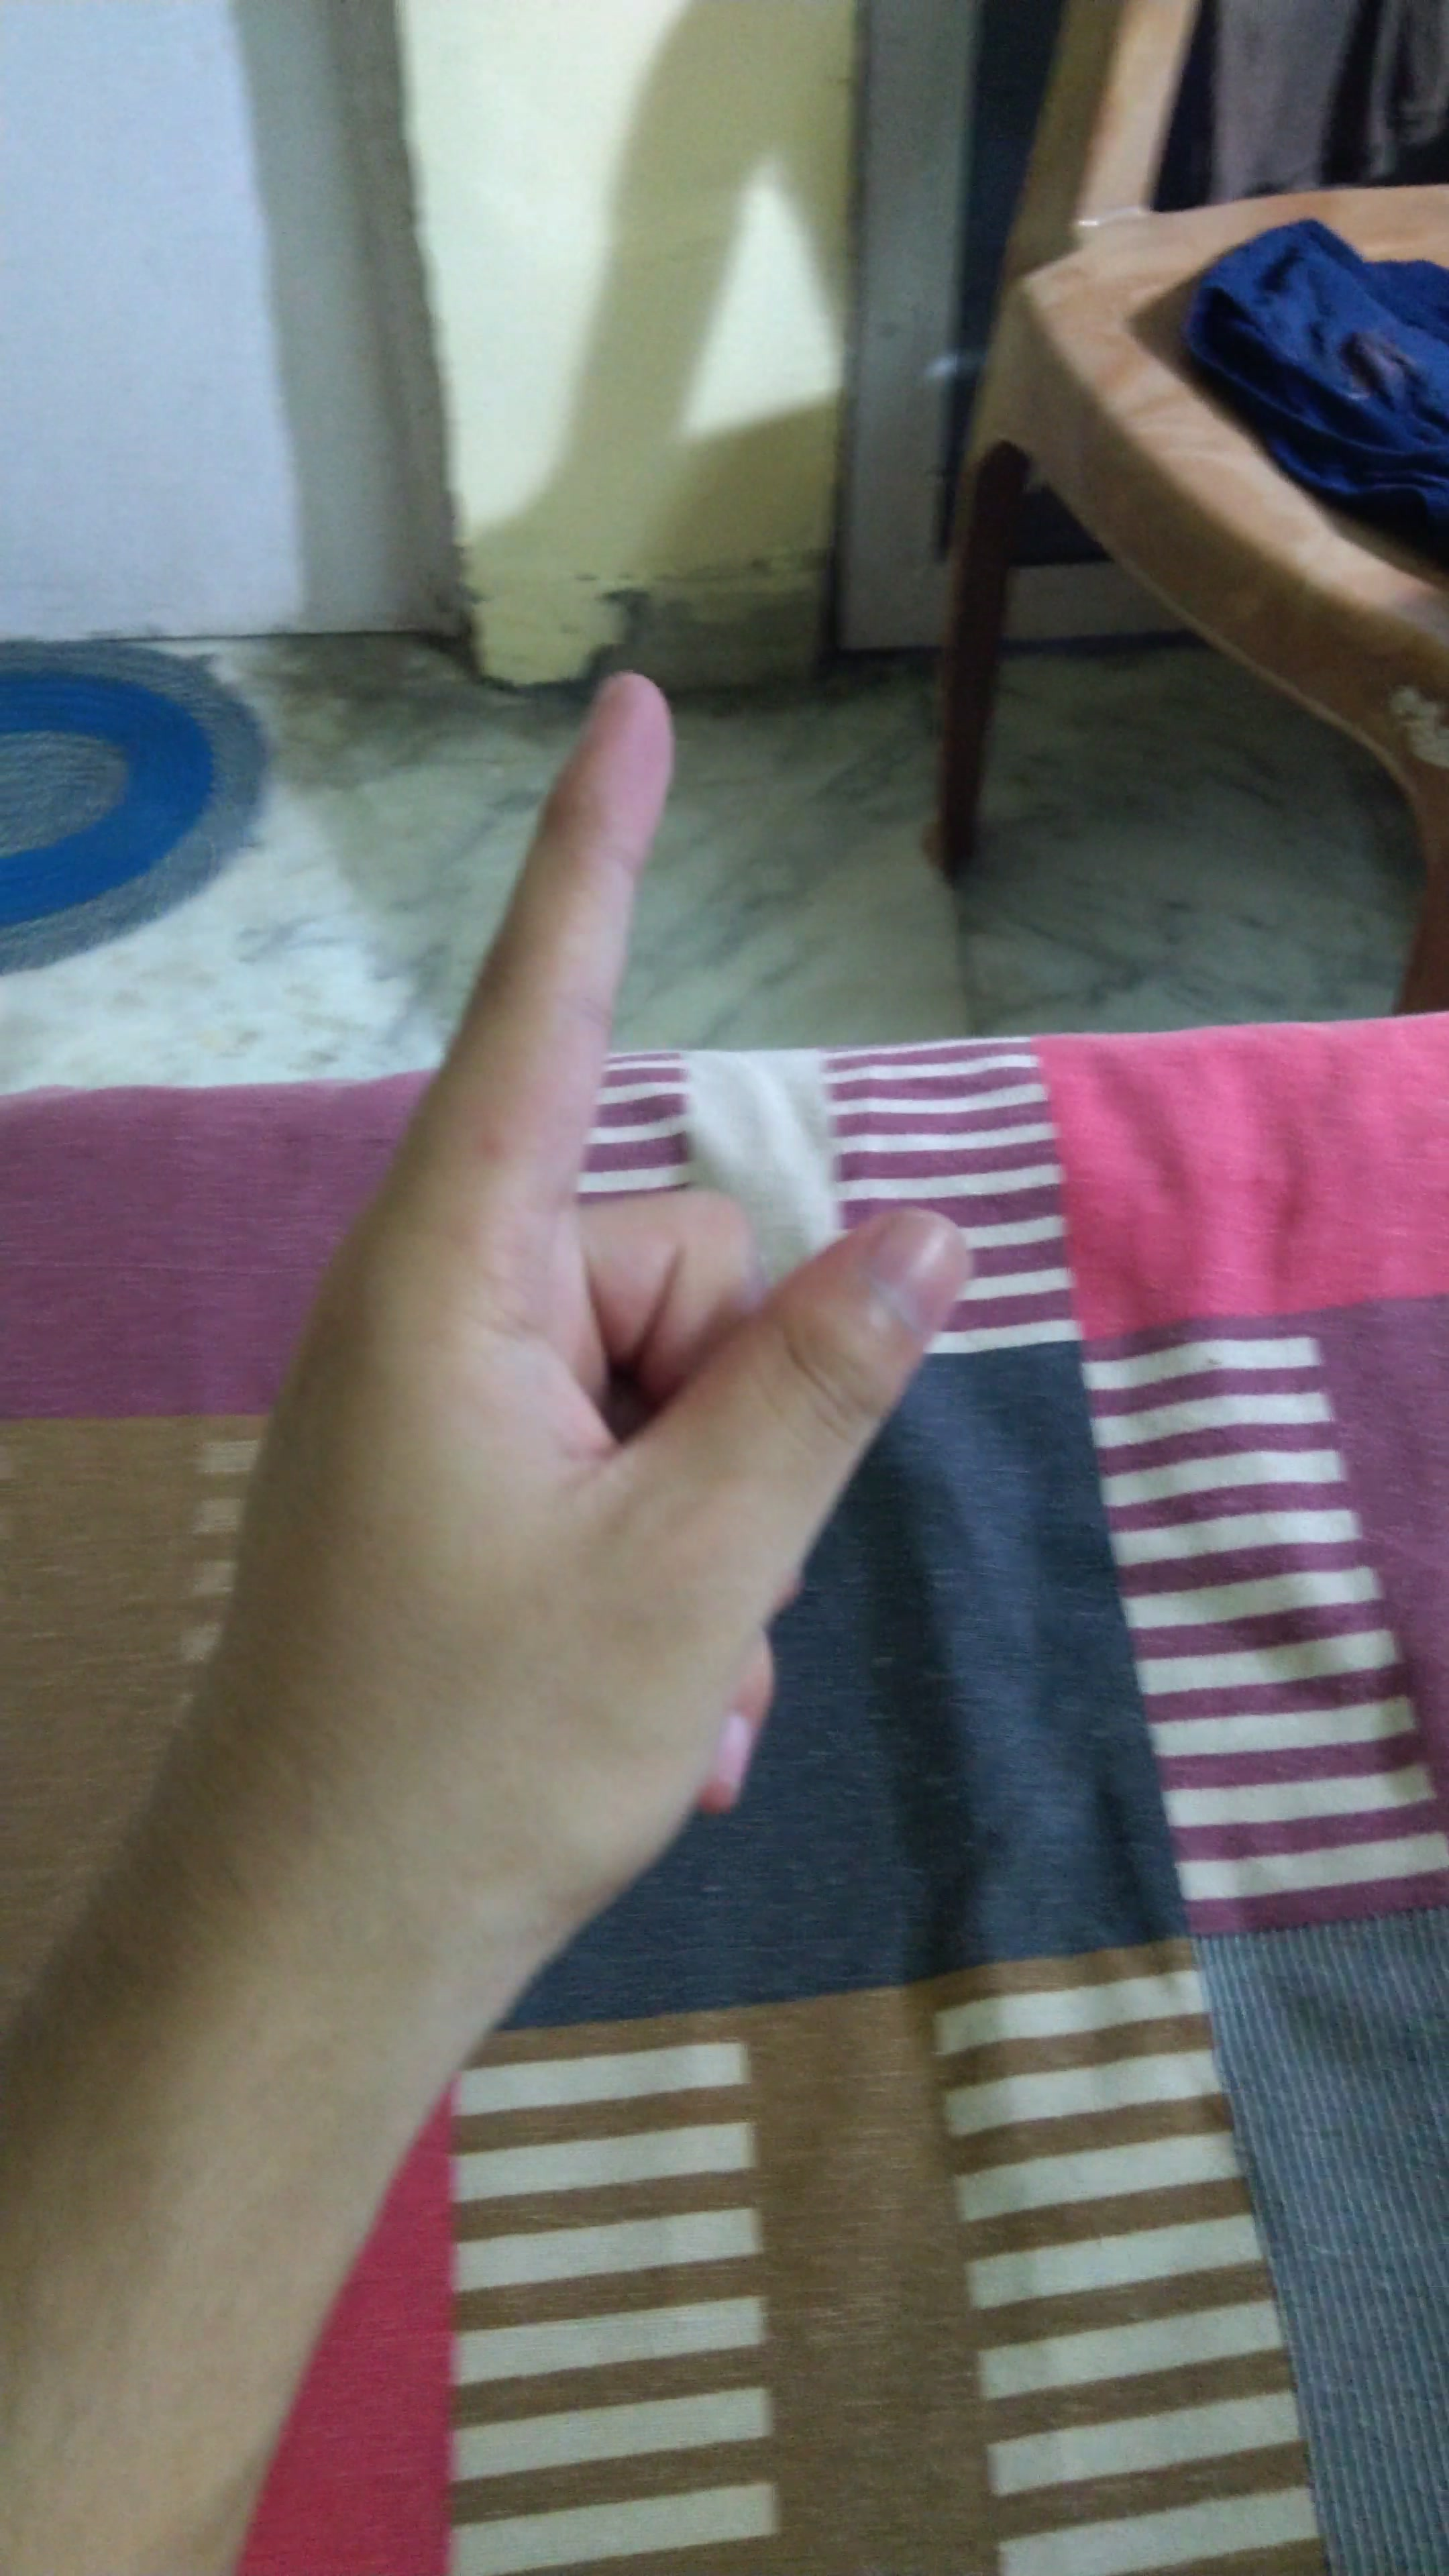hand: (234, 653, 1039, 1992)
